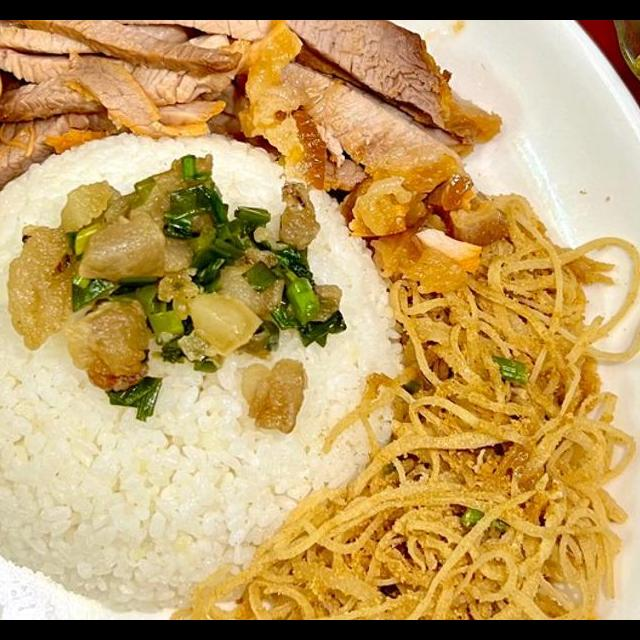bi: (348, 184, 640, 620), (156, 469, 633, 620)
com: (0, 123, 415, 612)
com suon bi trung: (0, 46, 640, 620)
suon: (230, 21, 520, 264), (0, 21, 278, 232)
